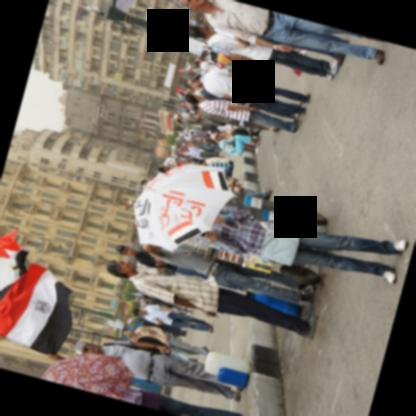backpack: (103, 335, 170, 354)
handbag: (258, 220, 300, 264), (137, 335, 167, 345), (221, 52, 244, 63), (150, 296, 172, 307)
